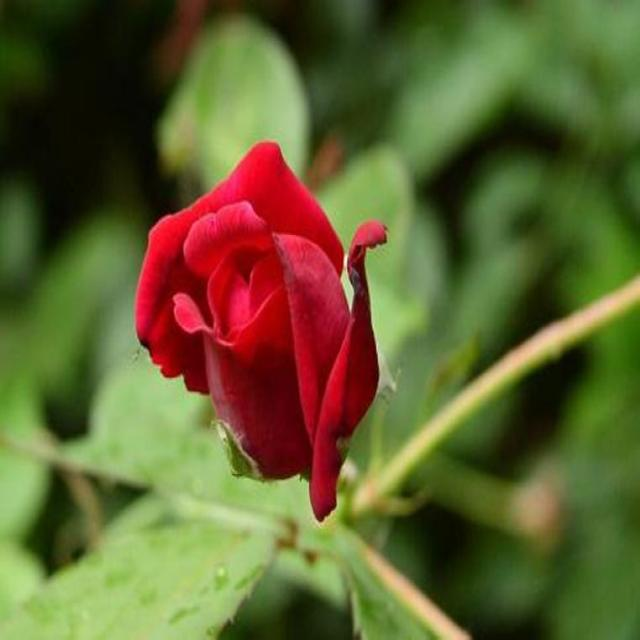rose: (128, 128, 405, 534)
